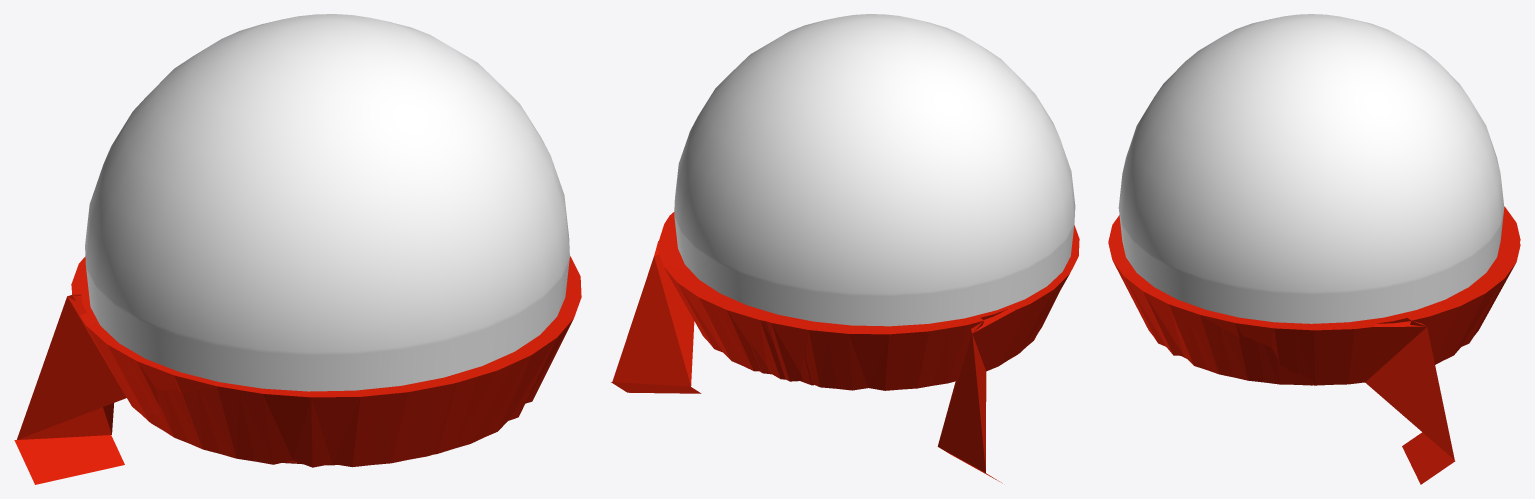
The model's file is hai.glb.
3 renders of one model, left to right at view 1: azimuth 30°, elevation 25°; view 2: azimuth 150°, elevation 25°; view 3: azimuth 270°, elevation 25°, orthographic. The views are drawn at different scales.
Parts seen in each view (by area): view 1: Sphere, Wall; view 2: Sphere, Wall; view 3: Sphere, Wall.
Part boxes in pixels (left/top/right/bottom): Sphere: left=85, top=14, right=569, bottom=391; Wall: left=14, top=256, right=581, bottom=484; Sphere: left=674, top=14, right=1075, bottom=326; Wall: left=611, top=212, right=1079, bottom=483; Sphere: left=1118, top=14, right=1504, bottom=323; Wall: left=1108, top=206, right=1520, bottom=484.
Size of the model in its own units: 28.33 by 26.26 by 27.24.
